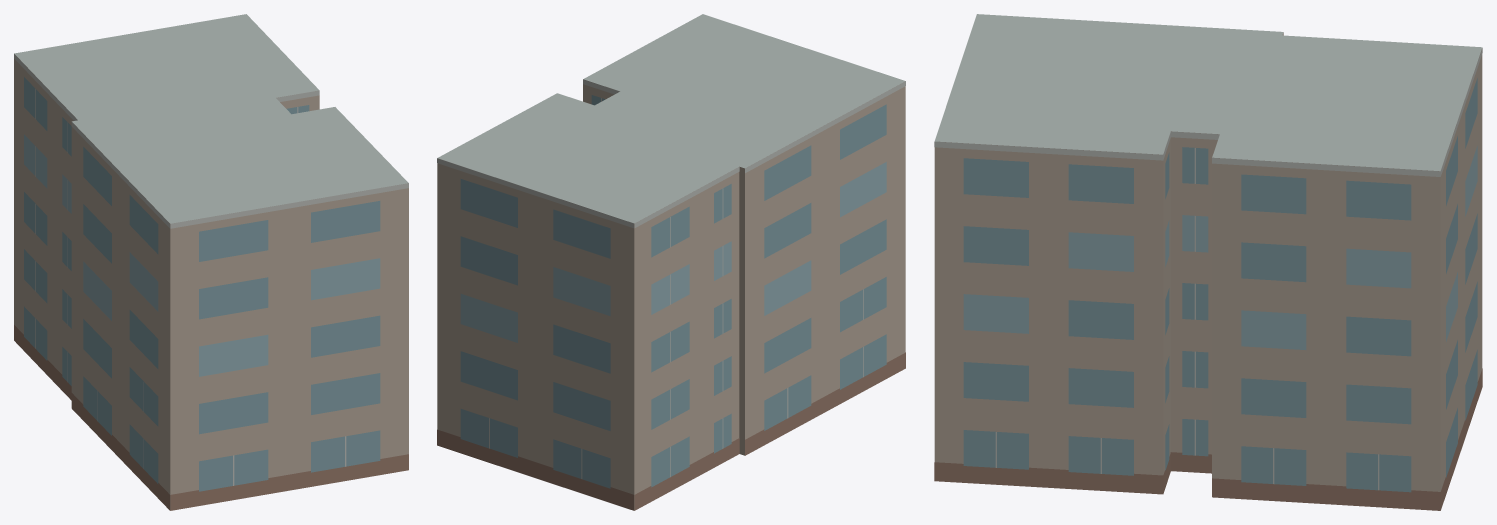
Rendered from survey-upis-32630203.glb.
3 renders of one model, left to right at view 1: azimuth 30°, elevation 25°; view 2: azimuth 150°, elevation 25°; view 3: azimuth 270°, elevation 25°, orthographic. The views are drawn at different scales.
Parts seen in each view (by area): view 1: survey-upis-32630203.tmp; view 2: survey-upis-32630203.tmp; view 3: survey-upis-32630203.tmp.
Part boxes in pixels (x1,y1,x2,y2): survey-upis-32630203.tmp: [14, 14, 408, 510]; survey-upis-32630203.tmp: [437, 14, 905, 510]; survey-upis-32630203.tmp: [934, 14, 1482, 510].
Bounding box in the file's own units: 14 × 14.1 × 20.63.
